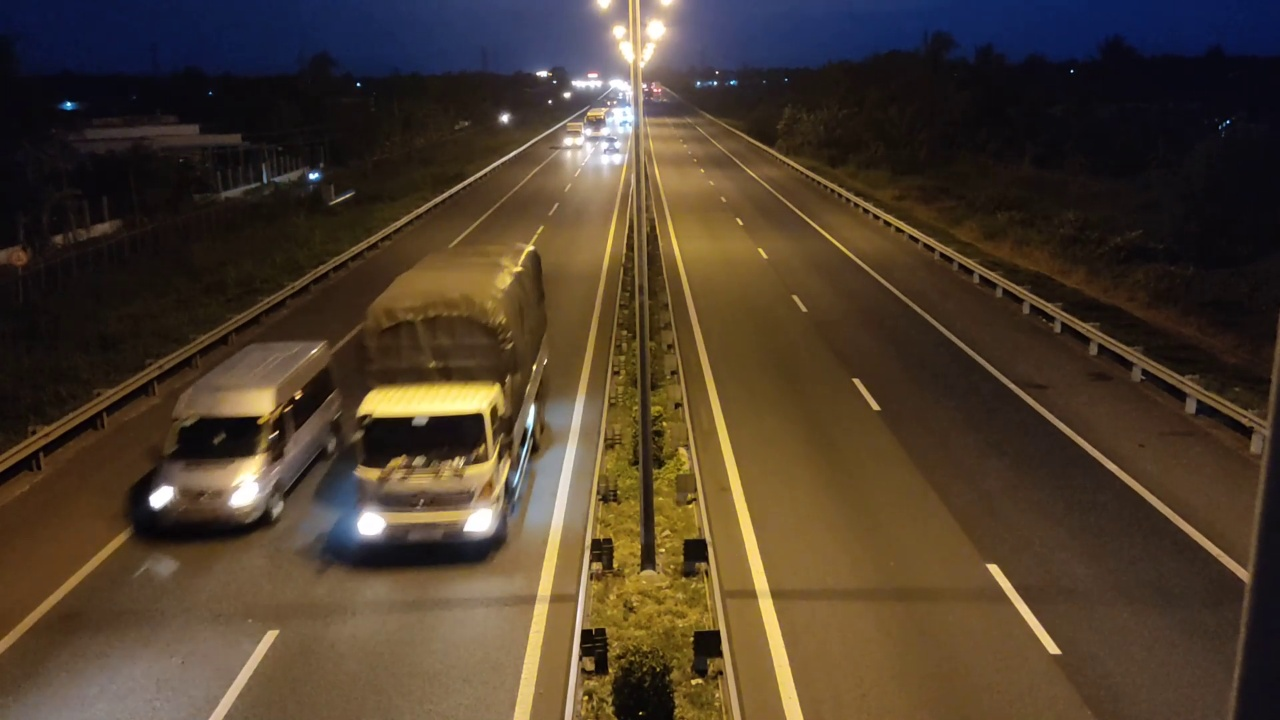car: (138, 338, 341, 534)
truck: (327, 241, 551, 567)
